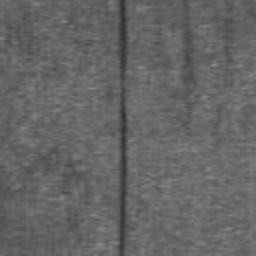Scratches: (118, 0, 129, 256)
